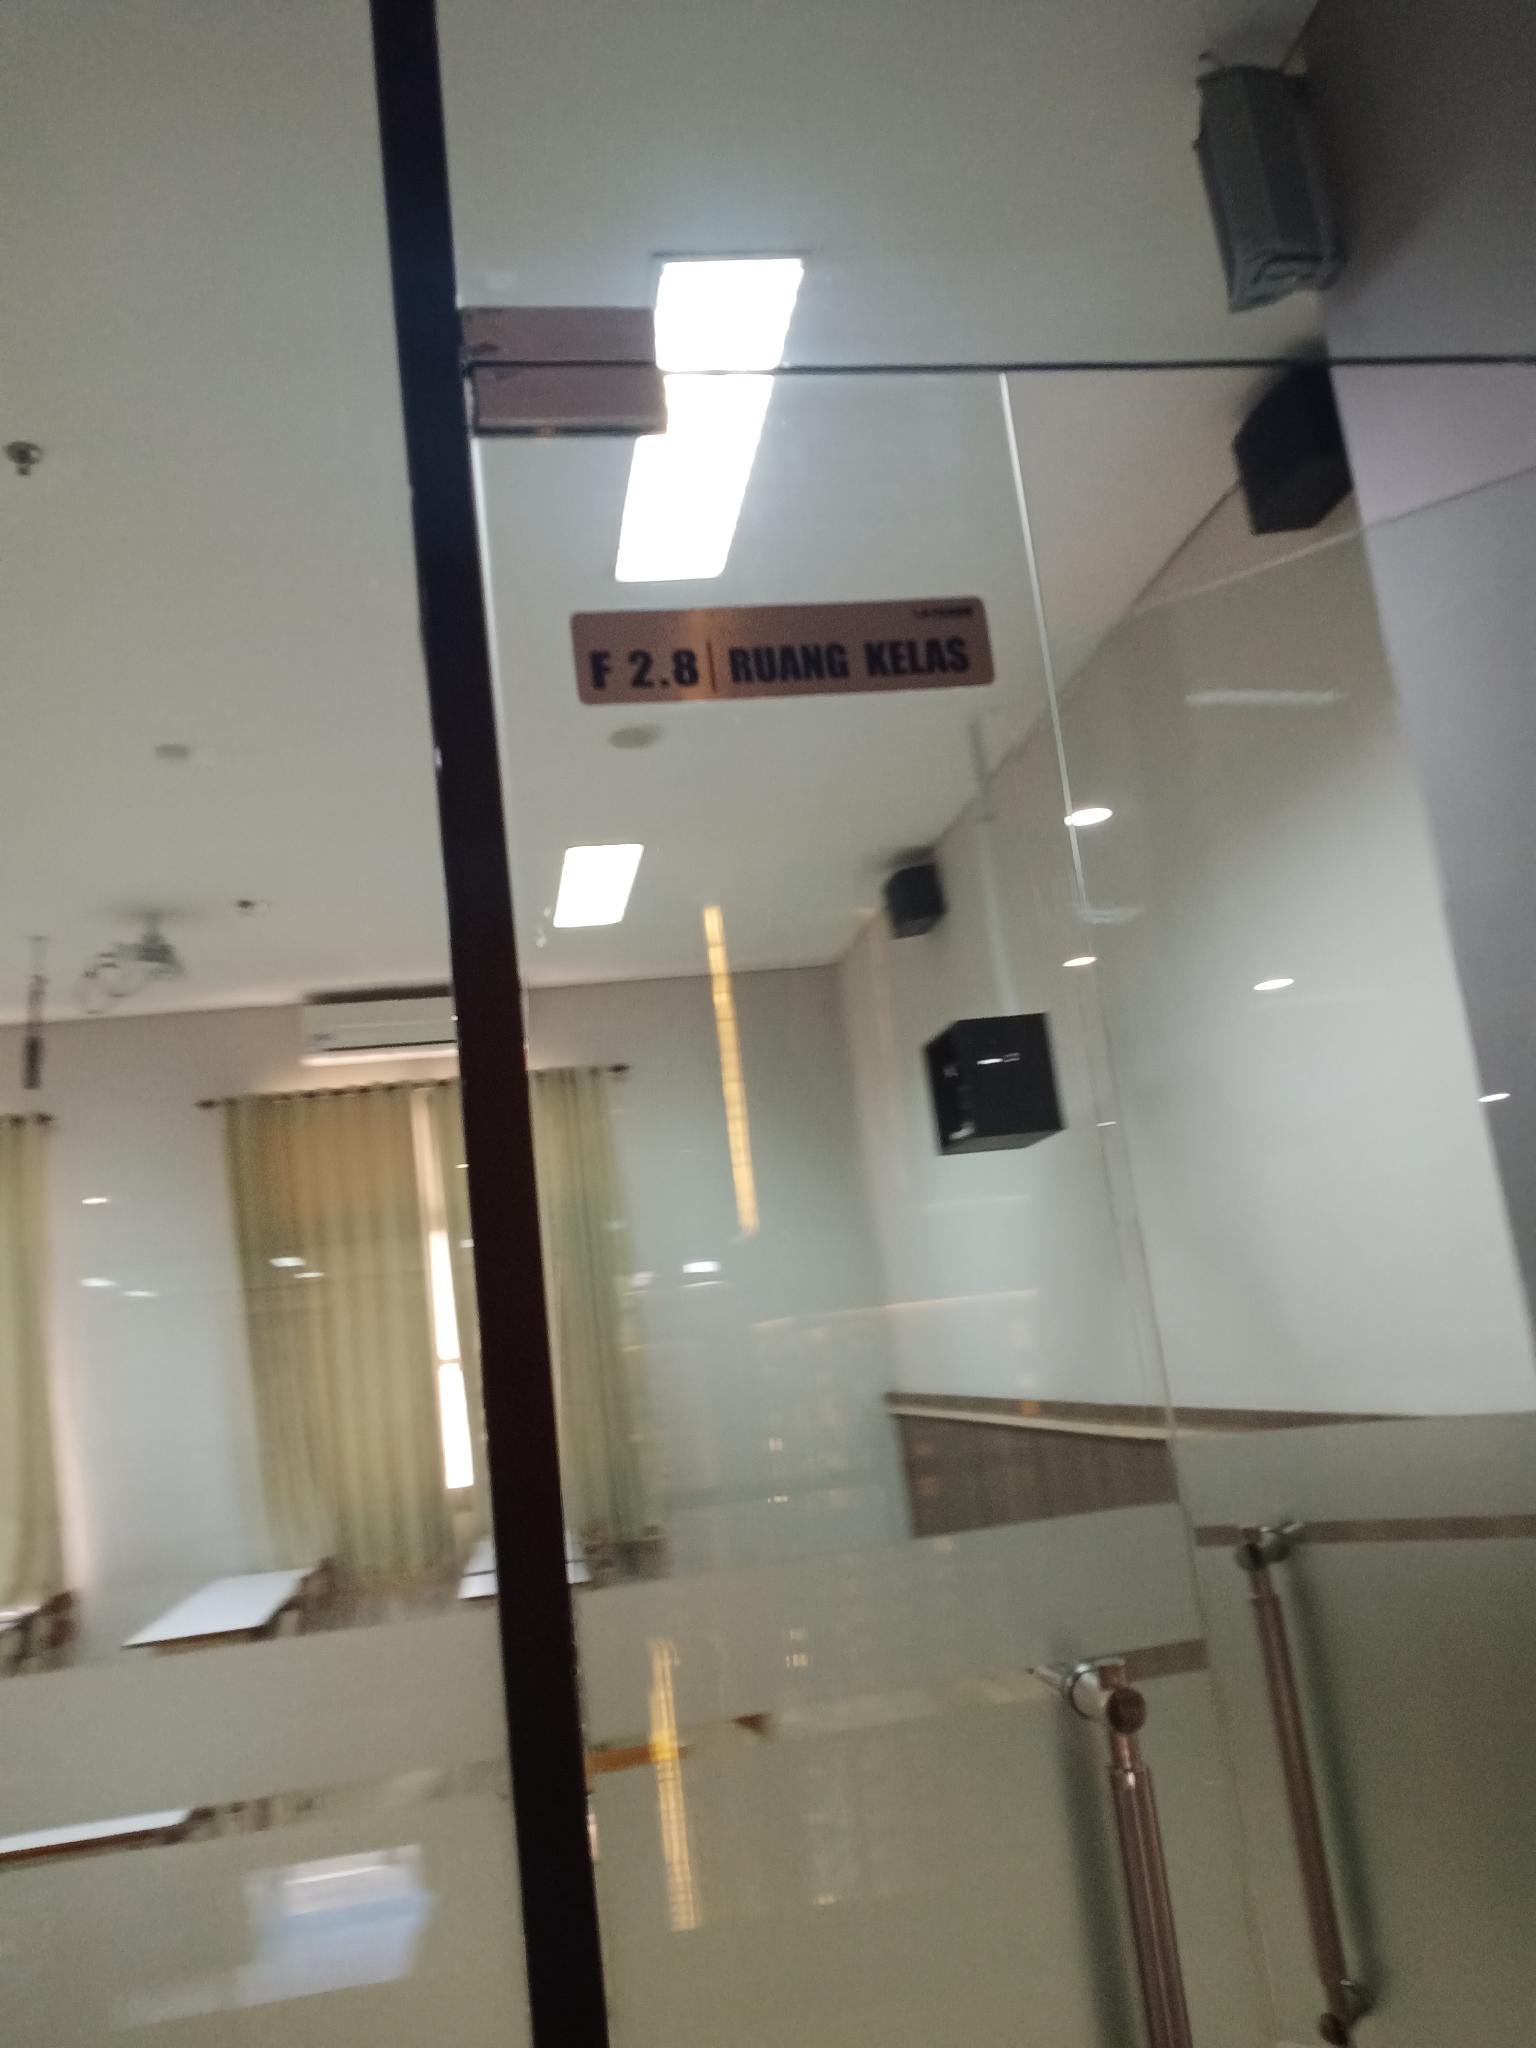plate: (568, 593, 997, 706)
